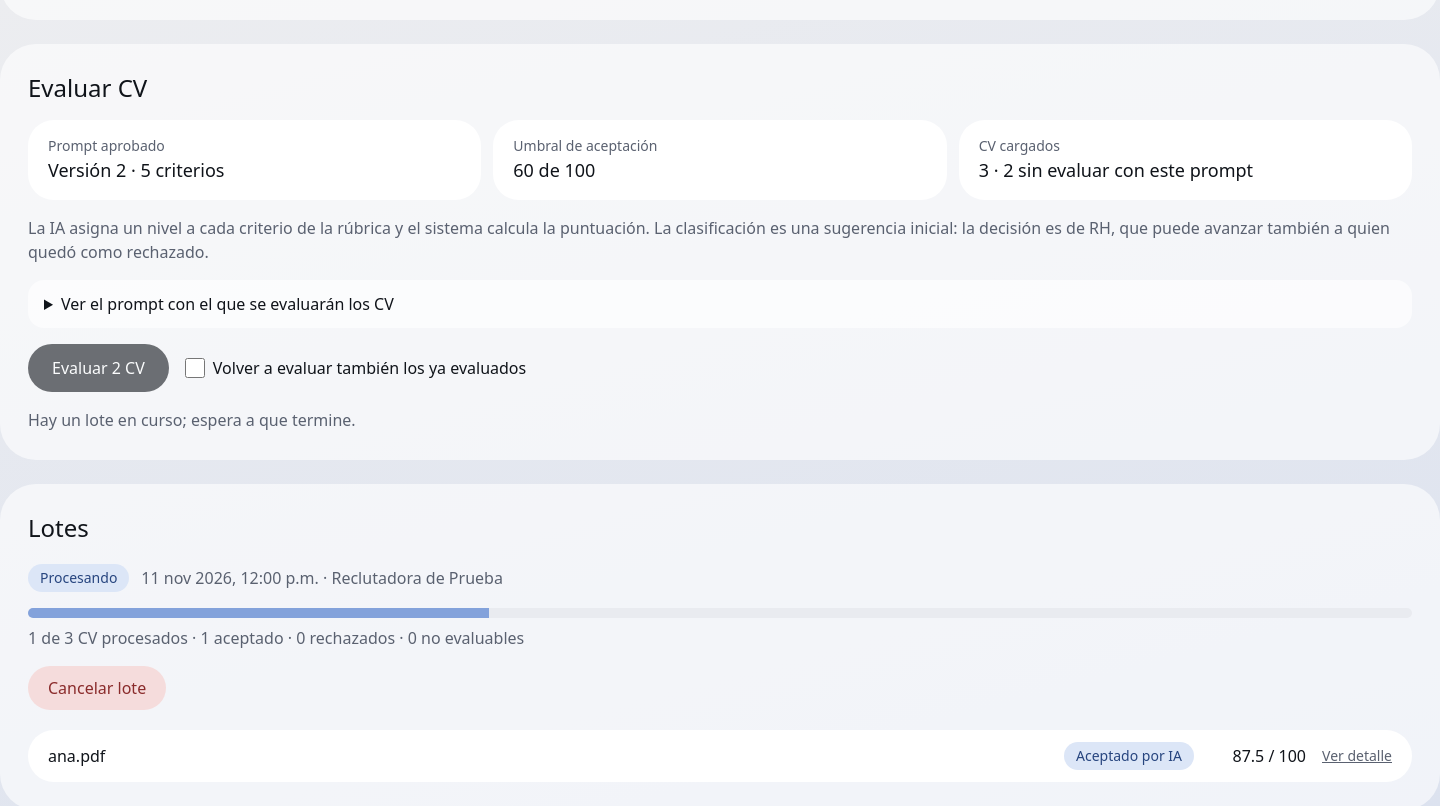
CvEvaluationTab › un lote en curso se puede cancelar y bloquea iniciar otro
(page scrolled)
Expected: the text "Procesando" is shown, [28,564,129,592]
Expected: the button "Evaluar 2 CV" is disabled, [28,344,169,392]
Click the button "Cancelar lote": (97,688) [28,666,166,710]
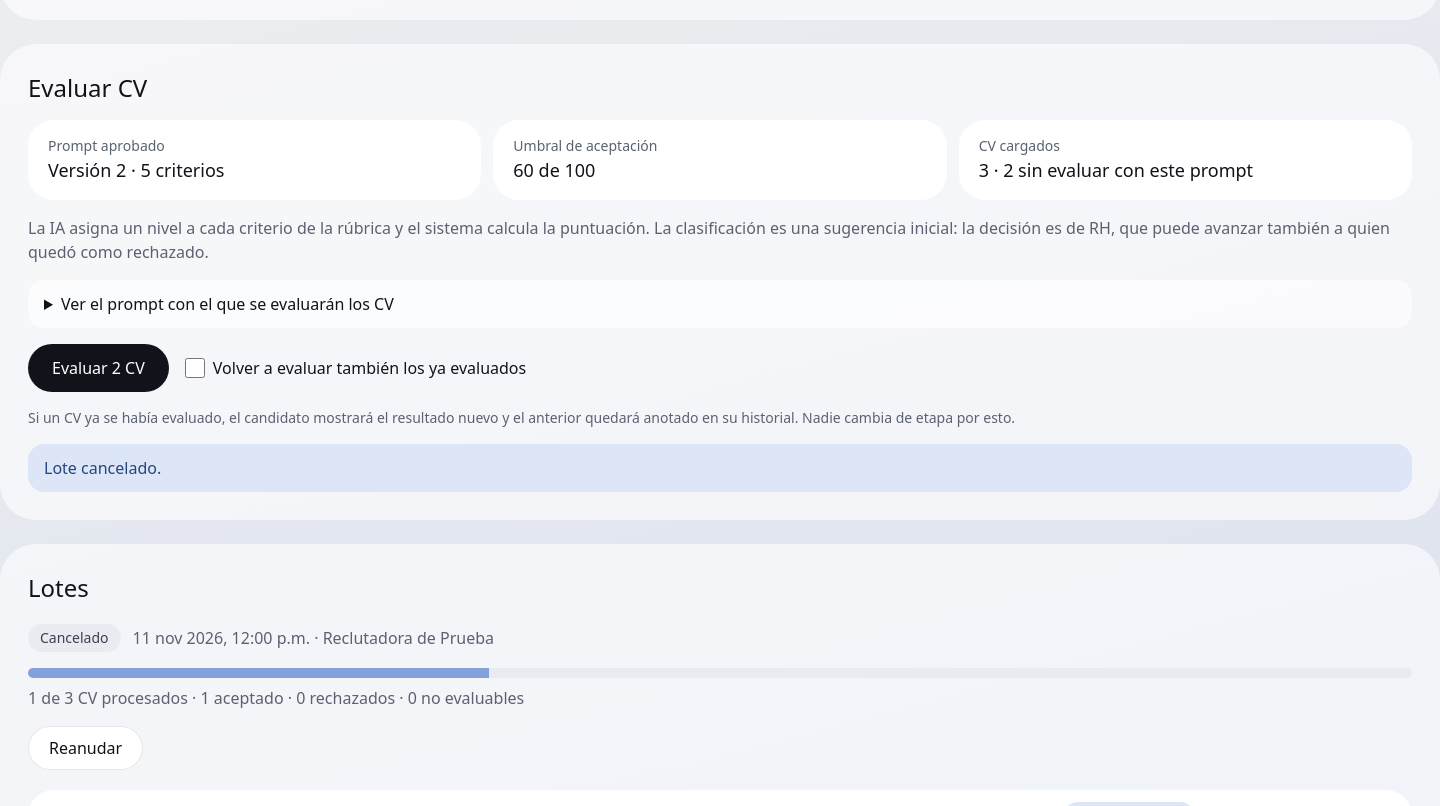
Result: the text "Cancelado" is shown at [28,624,120,652]
Result: the button "Reanudar" is shown at [28,726,143,770]
